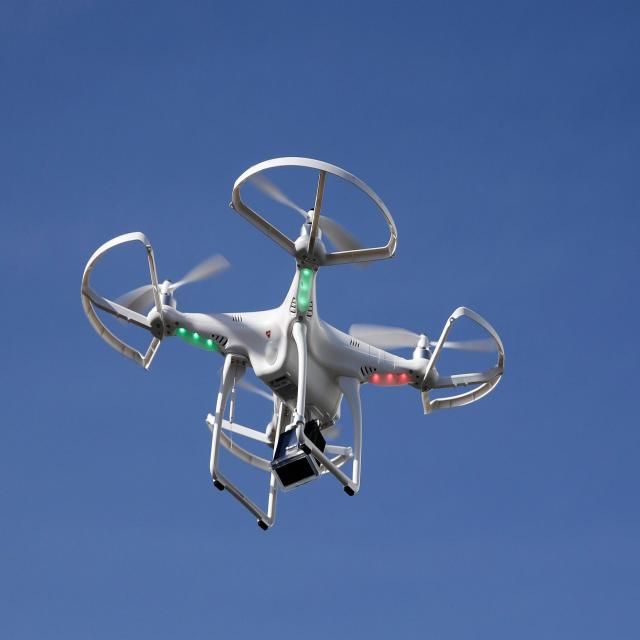UAV: (77, 152, 509, 532)
